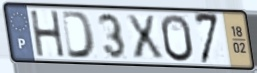3: (97, 12, 128, 60)
7: (193, 11, 222, 67)
D: (60, 9, 97, 60)
H: (28, 10, 67, 59)
O: (159, 13, 196, 64)
X: (124, 13, 166, 60)
